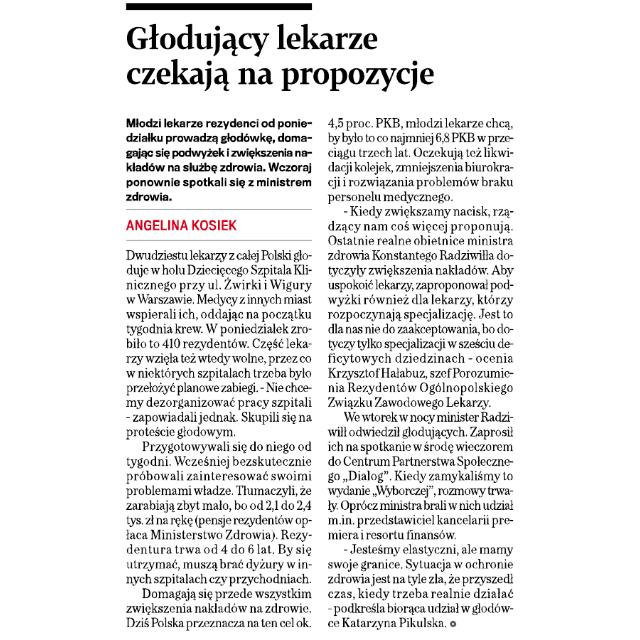author: (122, 212, 242, 235)
body: (324, 113, 518, 632), (122, 247, 316, 635)
lead: (124, 116, 318, 204)
title: (124, 18, 444, 98)
